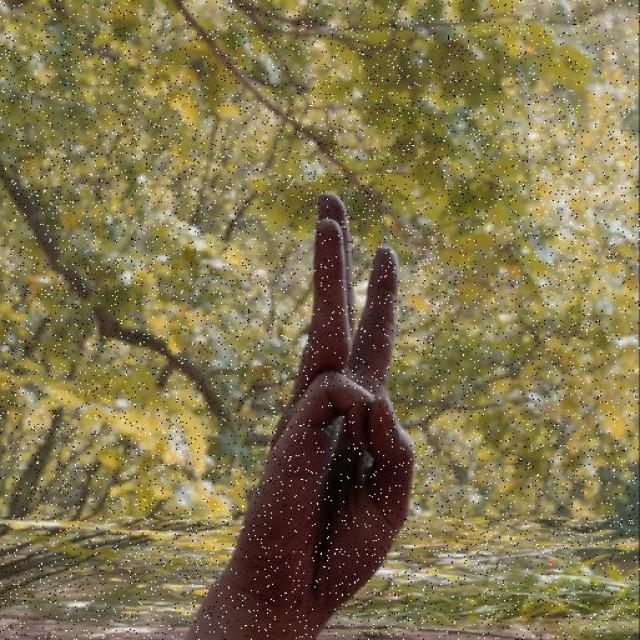W: (219, 192, 419, 617)
